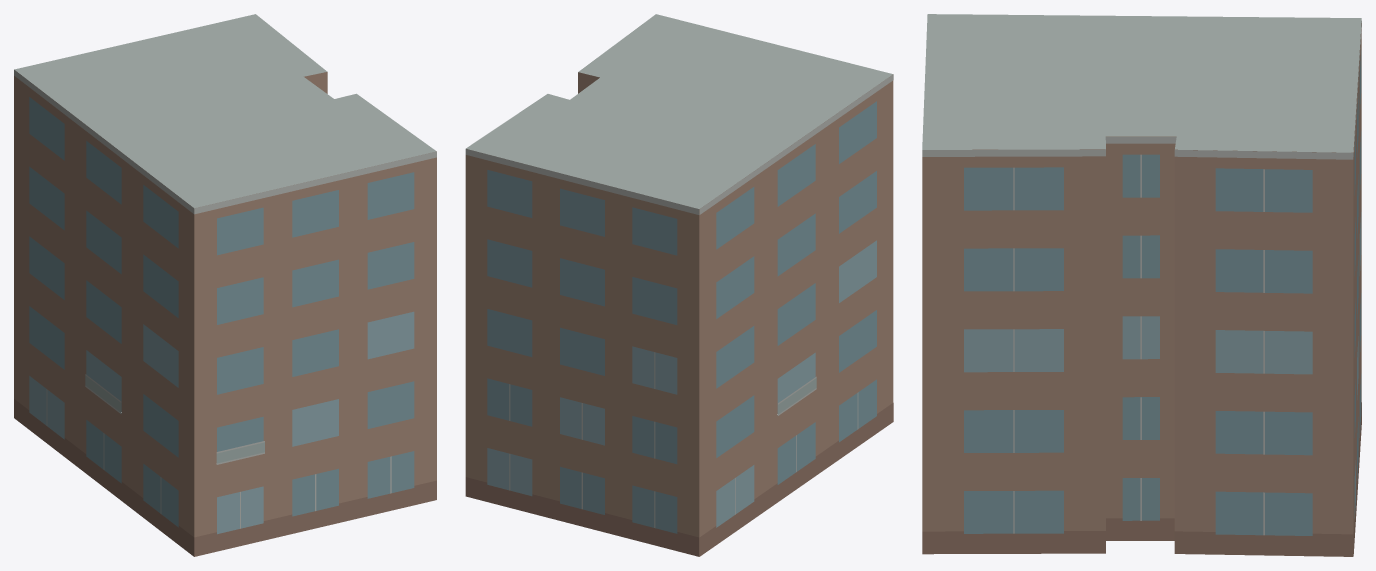
Rendered from survey-upis-32725776.glb.
3 renders of one model, left to right at view 1: azimuth 30°, elevation 25°; view 2: azimuth 150°, elevation 25°; view 3: azimuth 270°, elevation 25°, orthographic. The views are drawn at different scales.
Visible parts, largest first — view 1: survey-upis-32725776.tmp; view 2: survey-upis-32725776.tmp; view 3: survey-upis-32725776.tmp.
Part boxes in pixels (bbox=[...]): survey-upis-32725776.tmp: bbox=[14, 14, 436, 556]; survey-upis-32725776.tmp: bbox=[465, 14, 893, 556]; survey-upis-32725776.tmp: bbox=[922, 14, 1361, 556].
Size of the model in its own units: 10.32 by 14 by 13.81.
